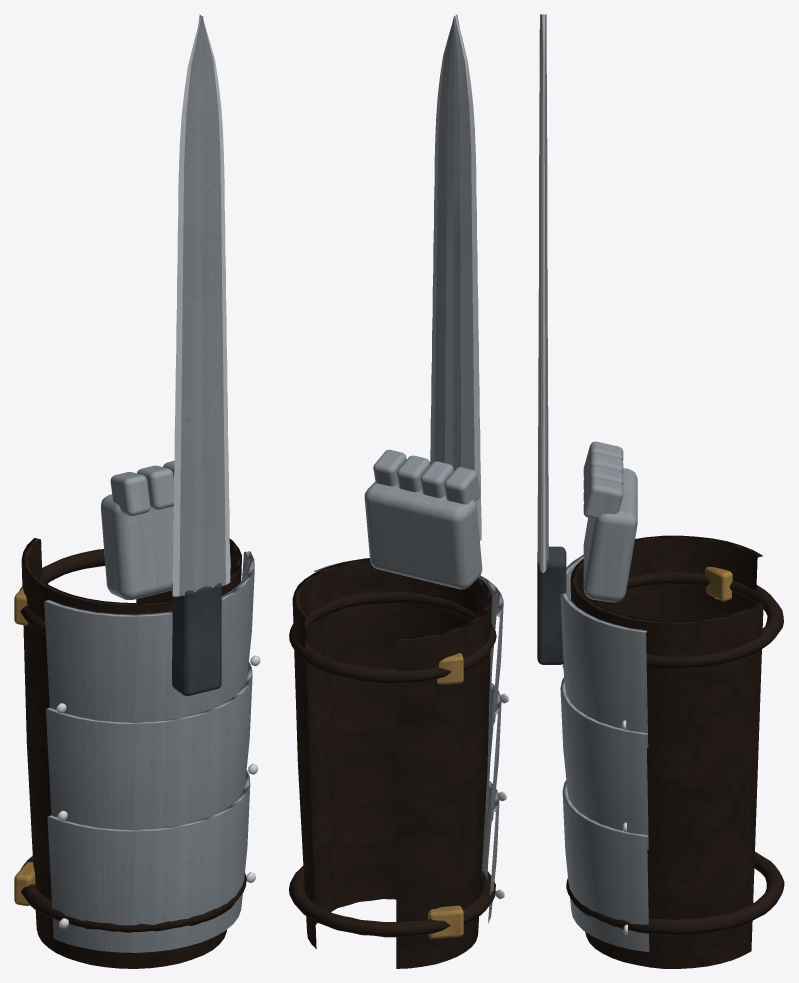
File: arm-blade.lod1.glb
3 renders of one model, left to right at view 1: azimuth 30°, elevation 25°; view 2: azimuth 150°, elevation 25°; view 3: azimuth 270°, elevation 25°, orthographic. The views are drawn at different scales.
Visible parts, largest first — view 1: steel / forged blade steel, leather / oiled leather wrap, edge / honed bright bevel, darksteel / oil-blackened fittings, brass / polished brass furniture; view 2: leather / oiled leather wrap, steel / forged blade steel, edge / honed bright bevel, brass / polished brass furniture; view 3: leather / oiled leather wrap, steel / forged blade steel, darksteel / oil-blackened fittings, edge / honed bright bevel, brass / polished brass furniture.
Part boxes in pixels (bbox=[...]): steel / forged blade steel: bbox=[44, 14, 254, 952]; leather / oiled leather wrap: bbox=[20, 538, 246, 968]; edge / honed bright bevel: bbox=[56, 15, 260, 928]; darksteel / oil-blackened fittings: bbox=[172, 583, 221, 696]; brass / polished brass furniture: bbox=[14, 587, 35, 905]; leather / oiled leather wrap: bbox=[289, 558, 496, 968]; steel / forged blade steel: bbox=[313, 14, 503, 923]; edge / honed bright bevel: bbox=[430, 15, 508, 898]; brass / polished brass furniture: bbox=[428, 653, 463, 938]; leather / oiled leather wrap: bbox=[566, 535, 784, 968]; steel / forged blade steel: bbox=[537, 14, 649, 952]; darksteel / oil-blackened fittings: bbox=[537, 546, 566, 664]; edge / honed bright bevel: bbox=[540, 14, 627, 934]; brass / polished brass furniture: bbox=[705, 566, 732, 601].
Bounding box in the file's own units: 0.1579 × 0.7051 × 0.1722.
7 materials, 5 textured.
